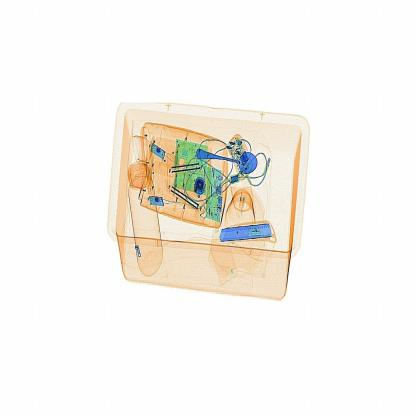pliers: (209, 216, 287, 260)
